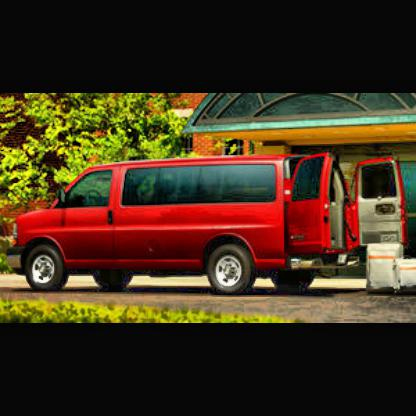GMC Savana Van 2012: (12, 155, 414, 293)
